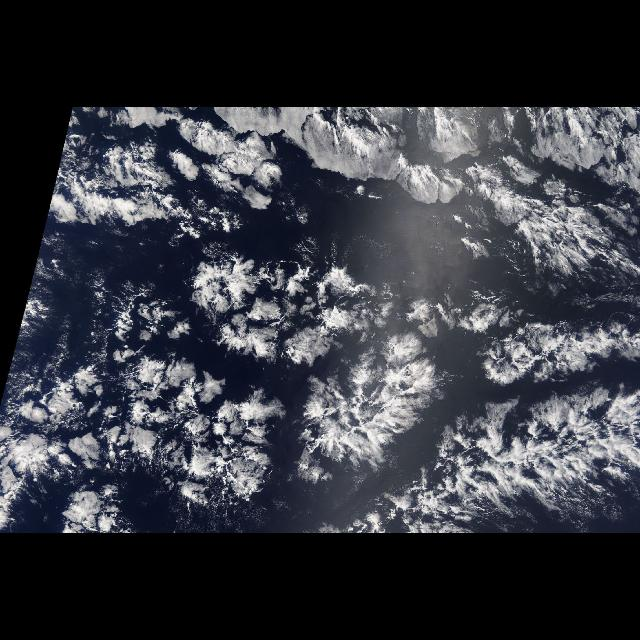Fish: (35, 257, 639, 533)
Flower: (1, 227, 420, 531)
